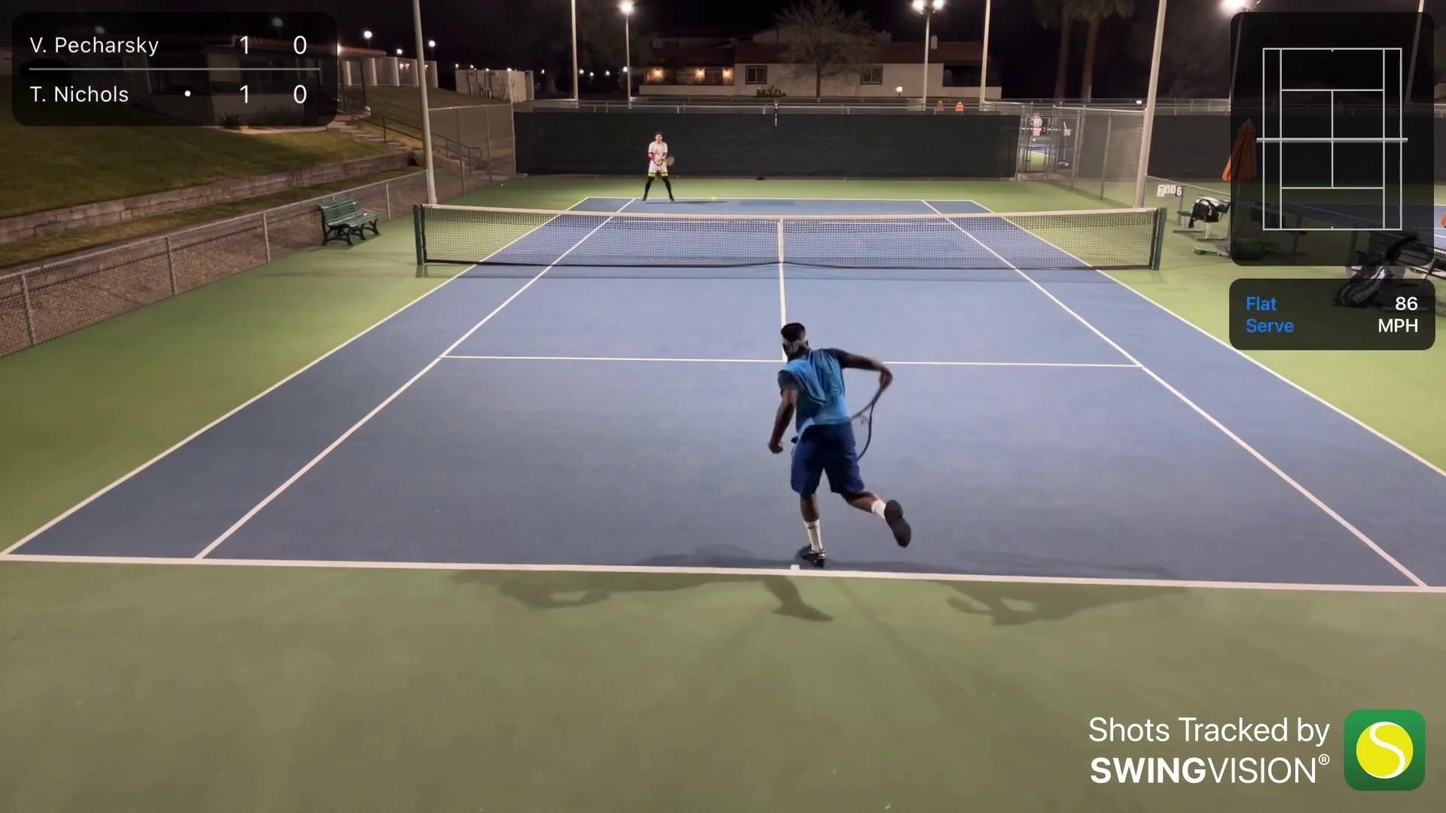ball: (710, 194, 717, 202)
